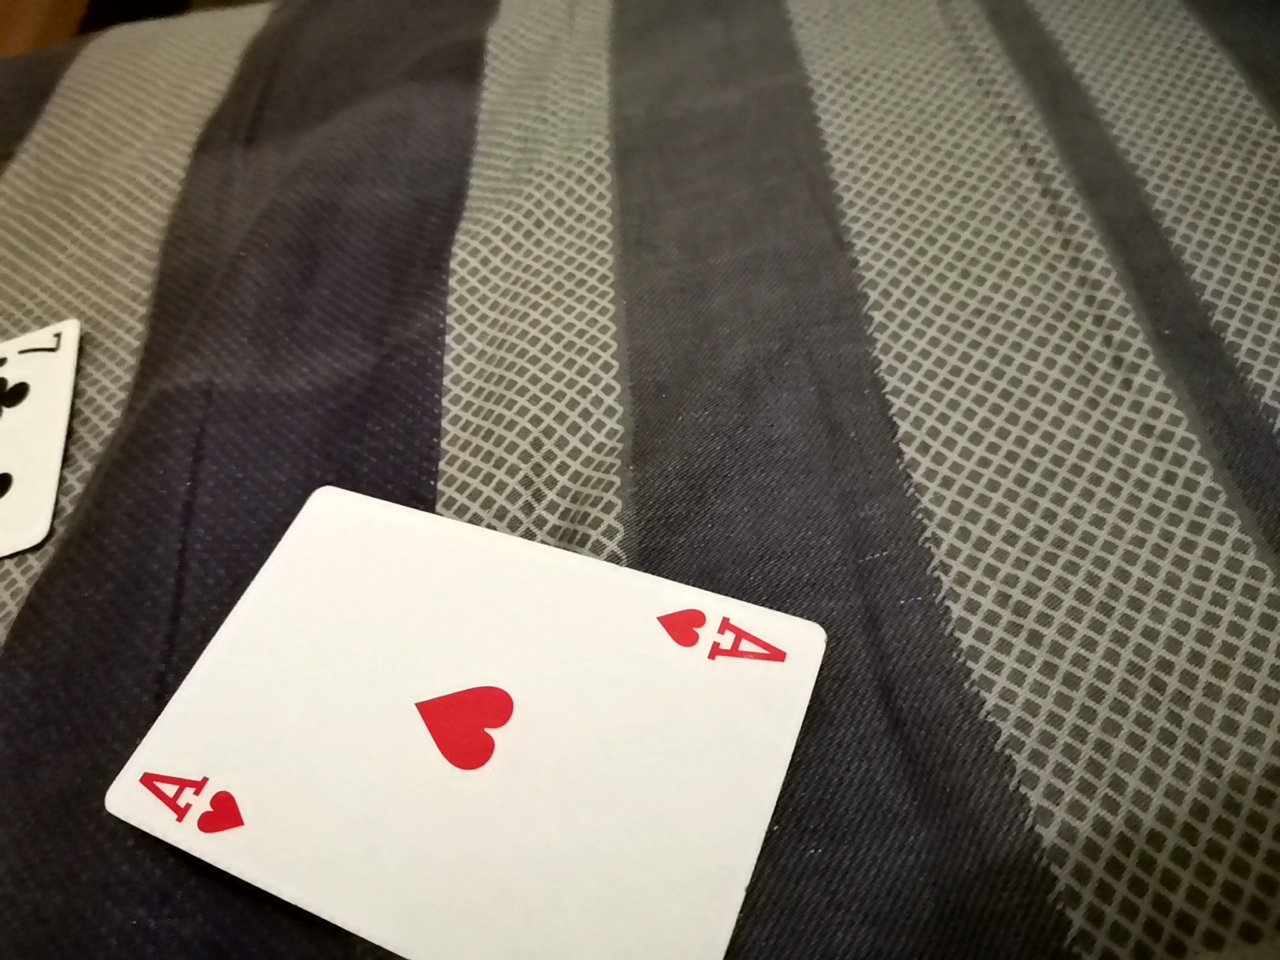hx a: (106, 510, 845, 960)
